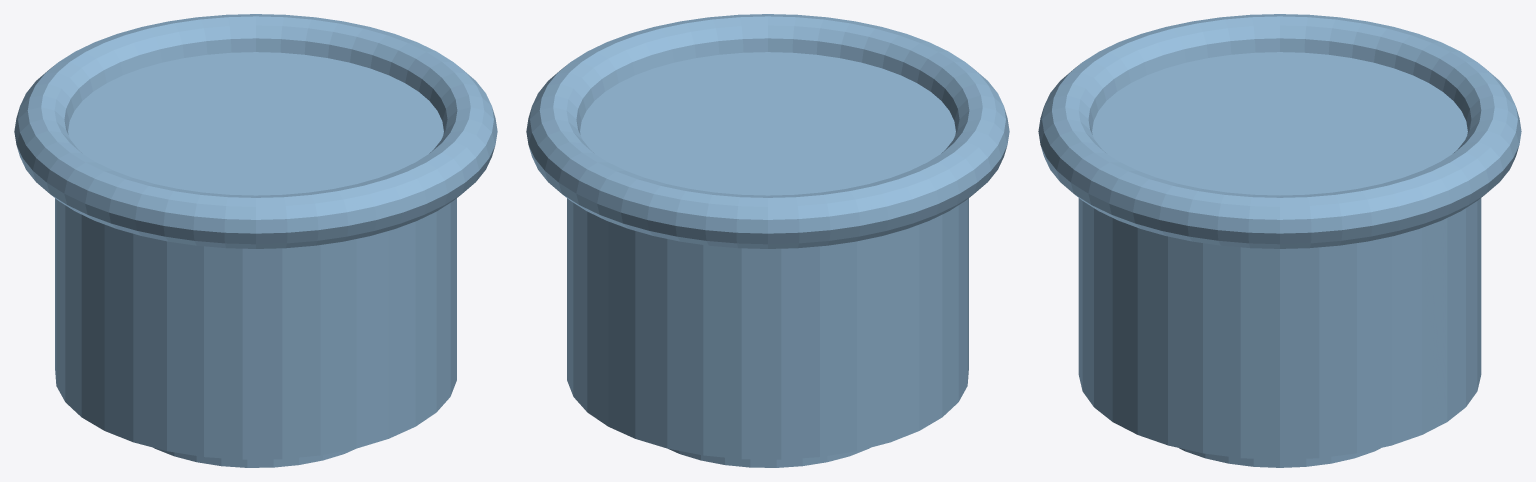
Rendered from pot_premium.glb.
The picture shows the model from 3 angles, left to right: view 1: azimuth 30°, elevation 25°; view 2: azimuth 150°, elevation 25°; view 3: azimuth 270°, elevation 25°; orthographic projection.
Visible parts, largest first — view 1: Cylinder, Torus.003, Cylinder.001; view 2: Cylinder, Torus.003, Cylinder.001; view 3: Cylinder, Torus.003, Cylinder.001.
Part boxes in pixels (left/top/right/bottom): Cylinder: left=55, top=52, right=456, bottom=459; Torus.003: left=14, top=14, right=497, bottom=248; Cylinder.001: left=153, top=447, right=355, bottom=467; Cylinder: left=567, top=52, right=968, bottom=459; Torus.003: left=526, top=14, right=1009, bottom=248; Cylinder.001: left=668, top=447, right=870, bottom=467; Cylinder: left=1078, top=52, right=1481, bottom=459; Torus.003: left=1038, top=14, right=1521, bottom=248; Cylinder.001: left=1179, top=448, right=1380, bottom=467.
Size of the model in its own units: 0.36 by 0.25 by 0.36.
